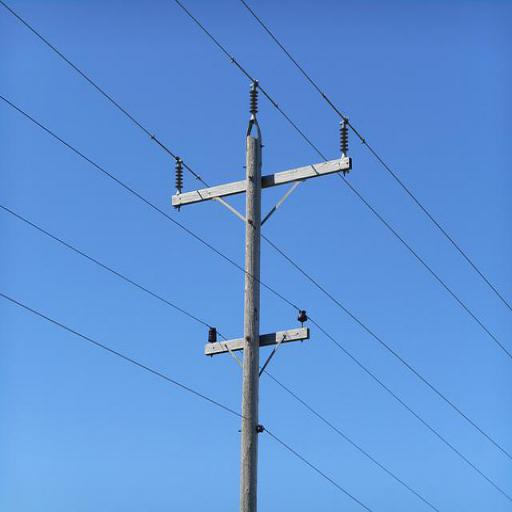mono_8: (168, 130, 353, 511)
